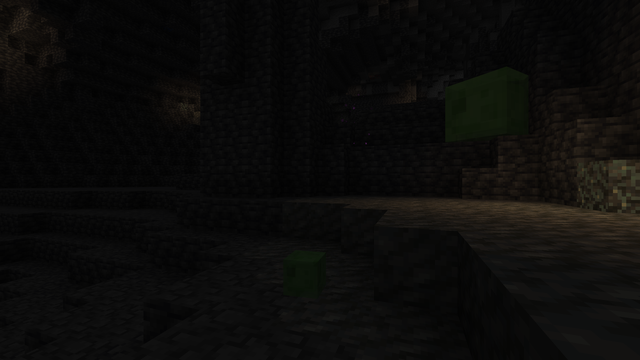slimes: (452, 64, 539, 141), (281, 248, 327, 299)
